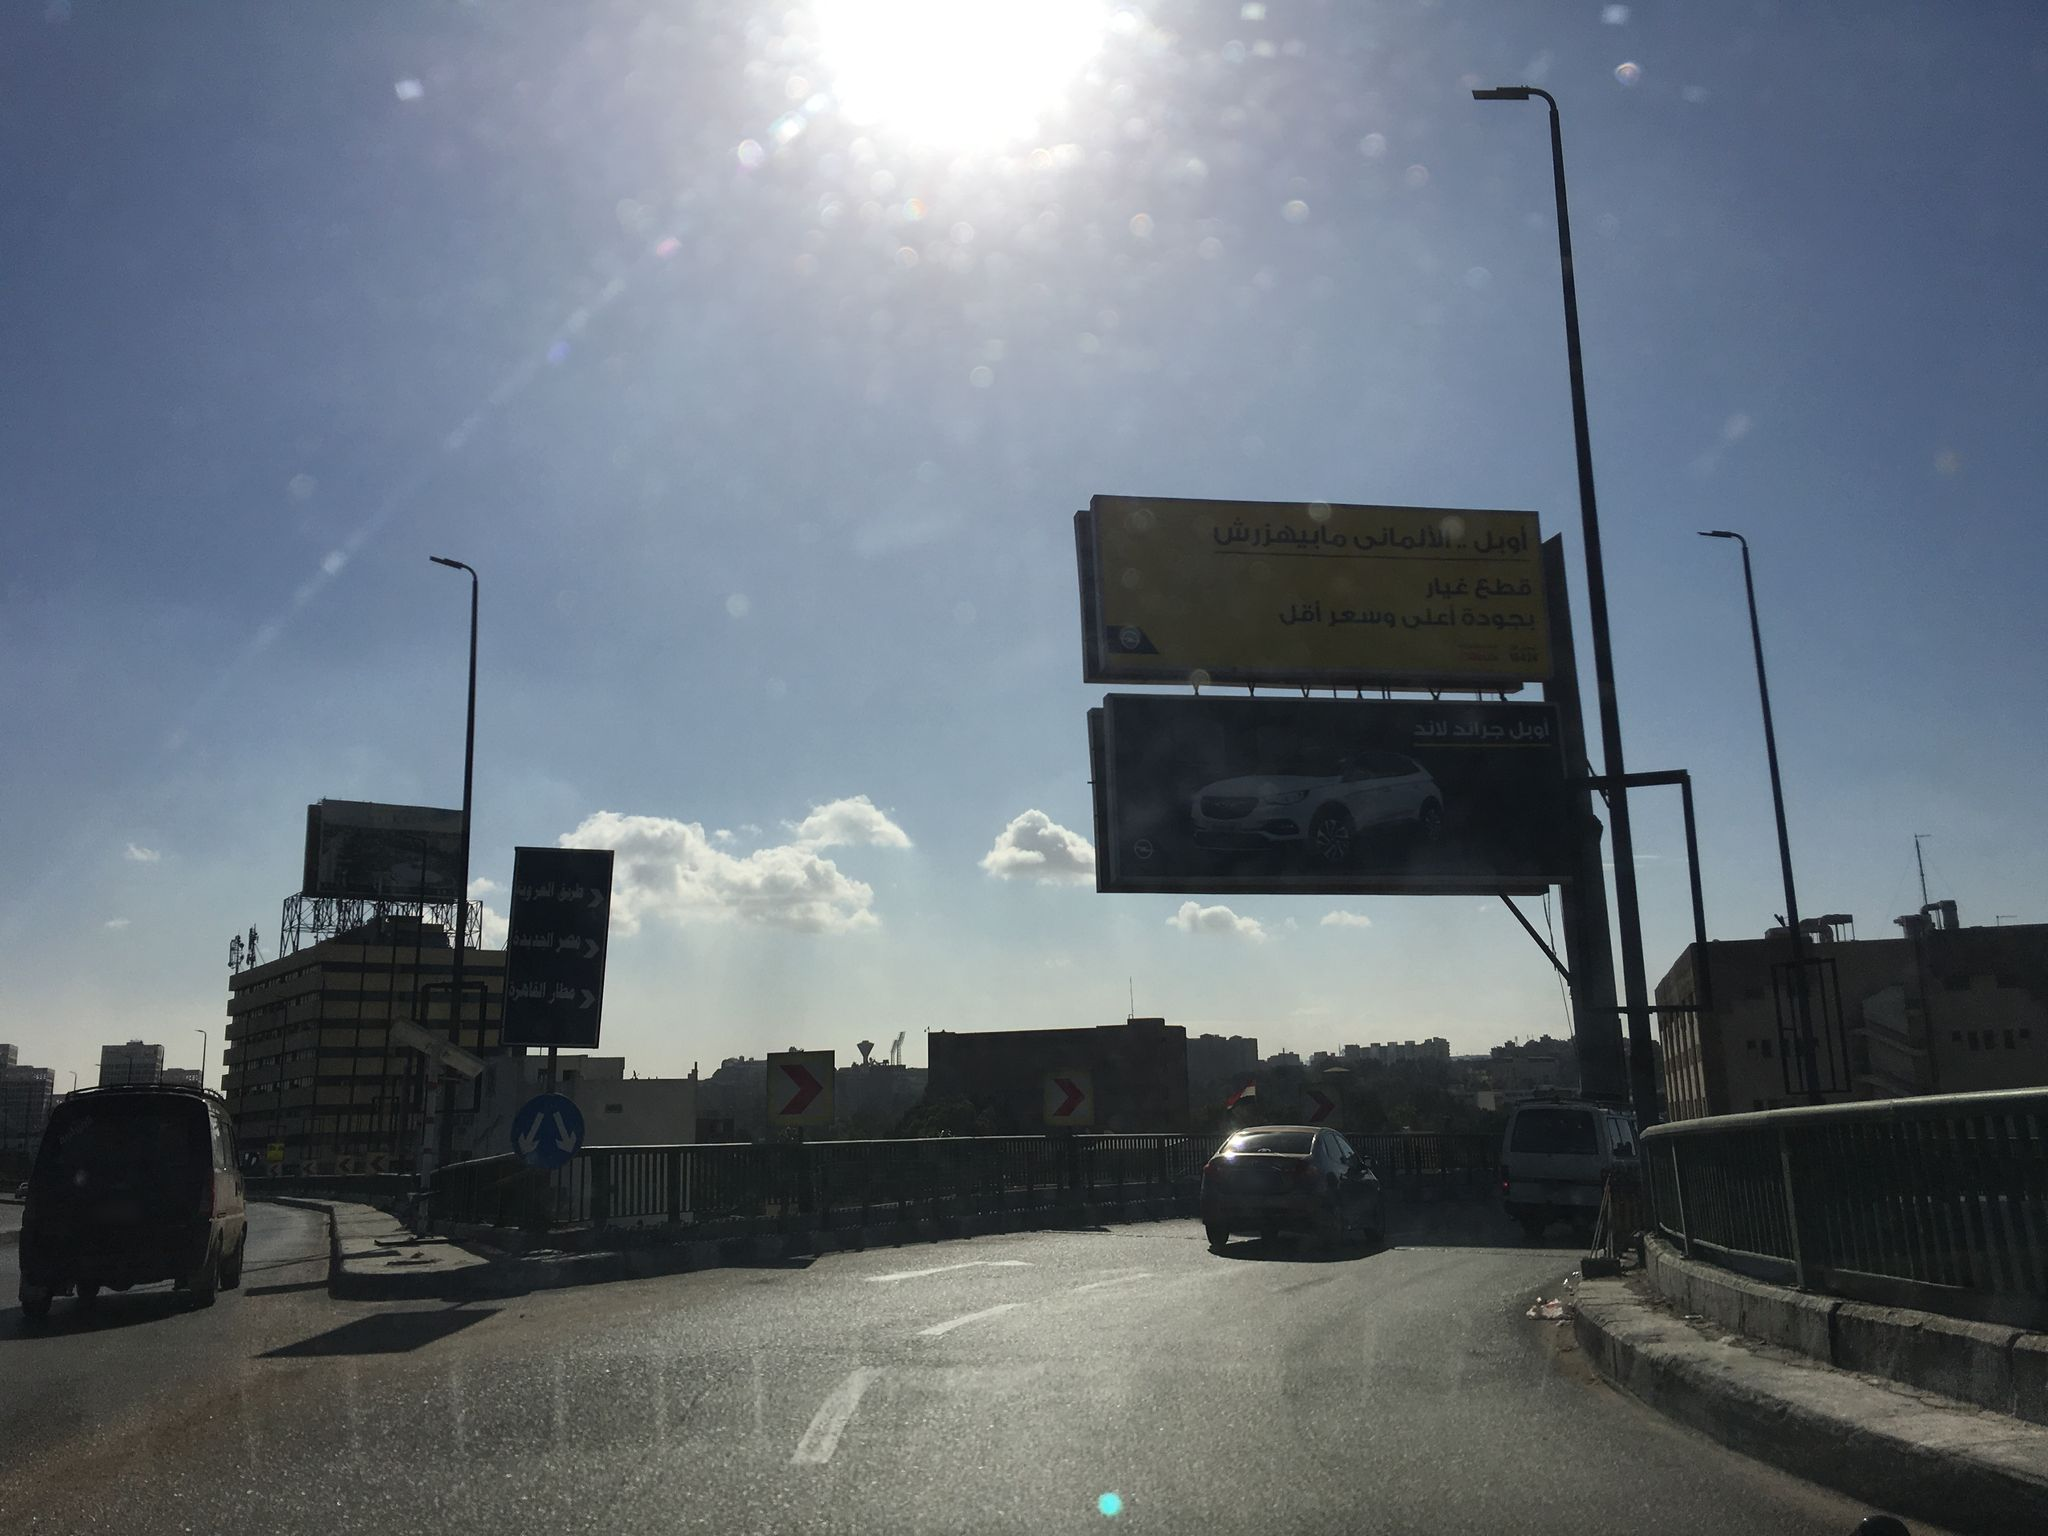car: (15, 1081, 252, 1323), (1197, 1125, 1385, 1257), (1500, 1094, 1643, 1242)
